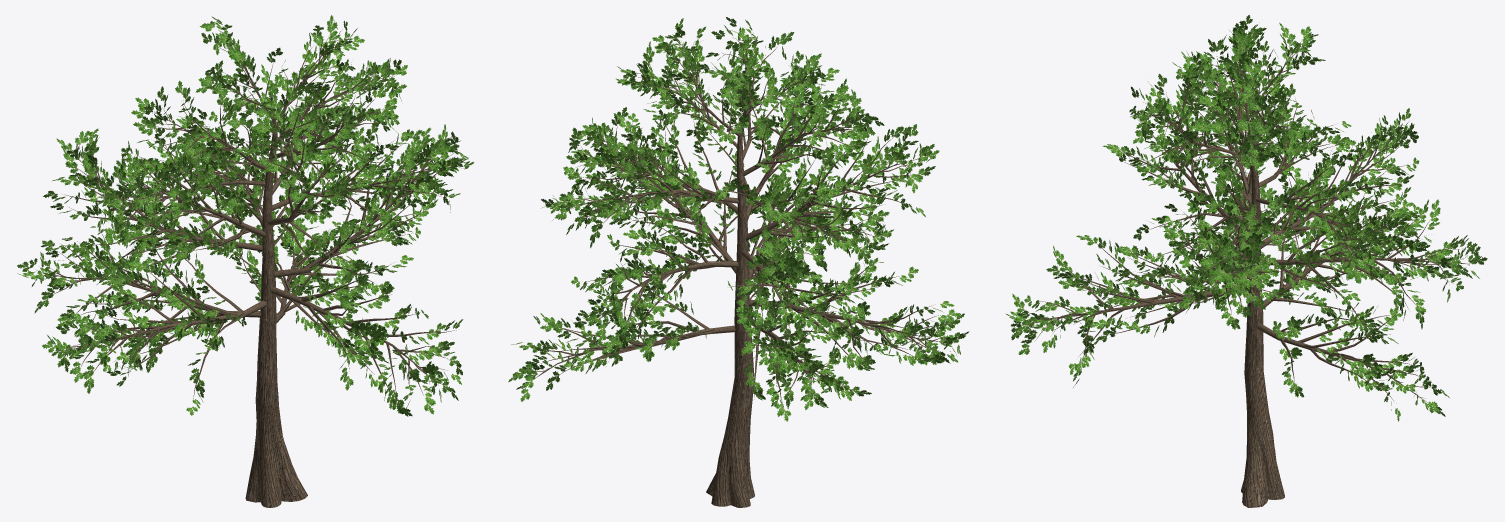
The model's file is OakTreeM04.FBX.
3 views of the same model, side by side, from view 1: azimuth 30°, elevation 25°; view 2: azimuth 150°, elevation 25°; view 3: azimuth 270°, elevation 25° (orthographic). The views are drawn at different scales.
Parts seen in each view (by area): view 1: OakTree04; view 2: OakTree04; view 3: OakTree04.
Boxes of the visible parts, <box> form: OakTree04: <box>17,15,474,507</box>; OakTree04: <box>508,17,969,507</box>; OakTree04: <box>1005,15,1487,507</box>.
Size of the model in its own units: 6.23 by 6.9 by 6.7.
